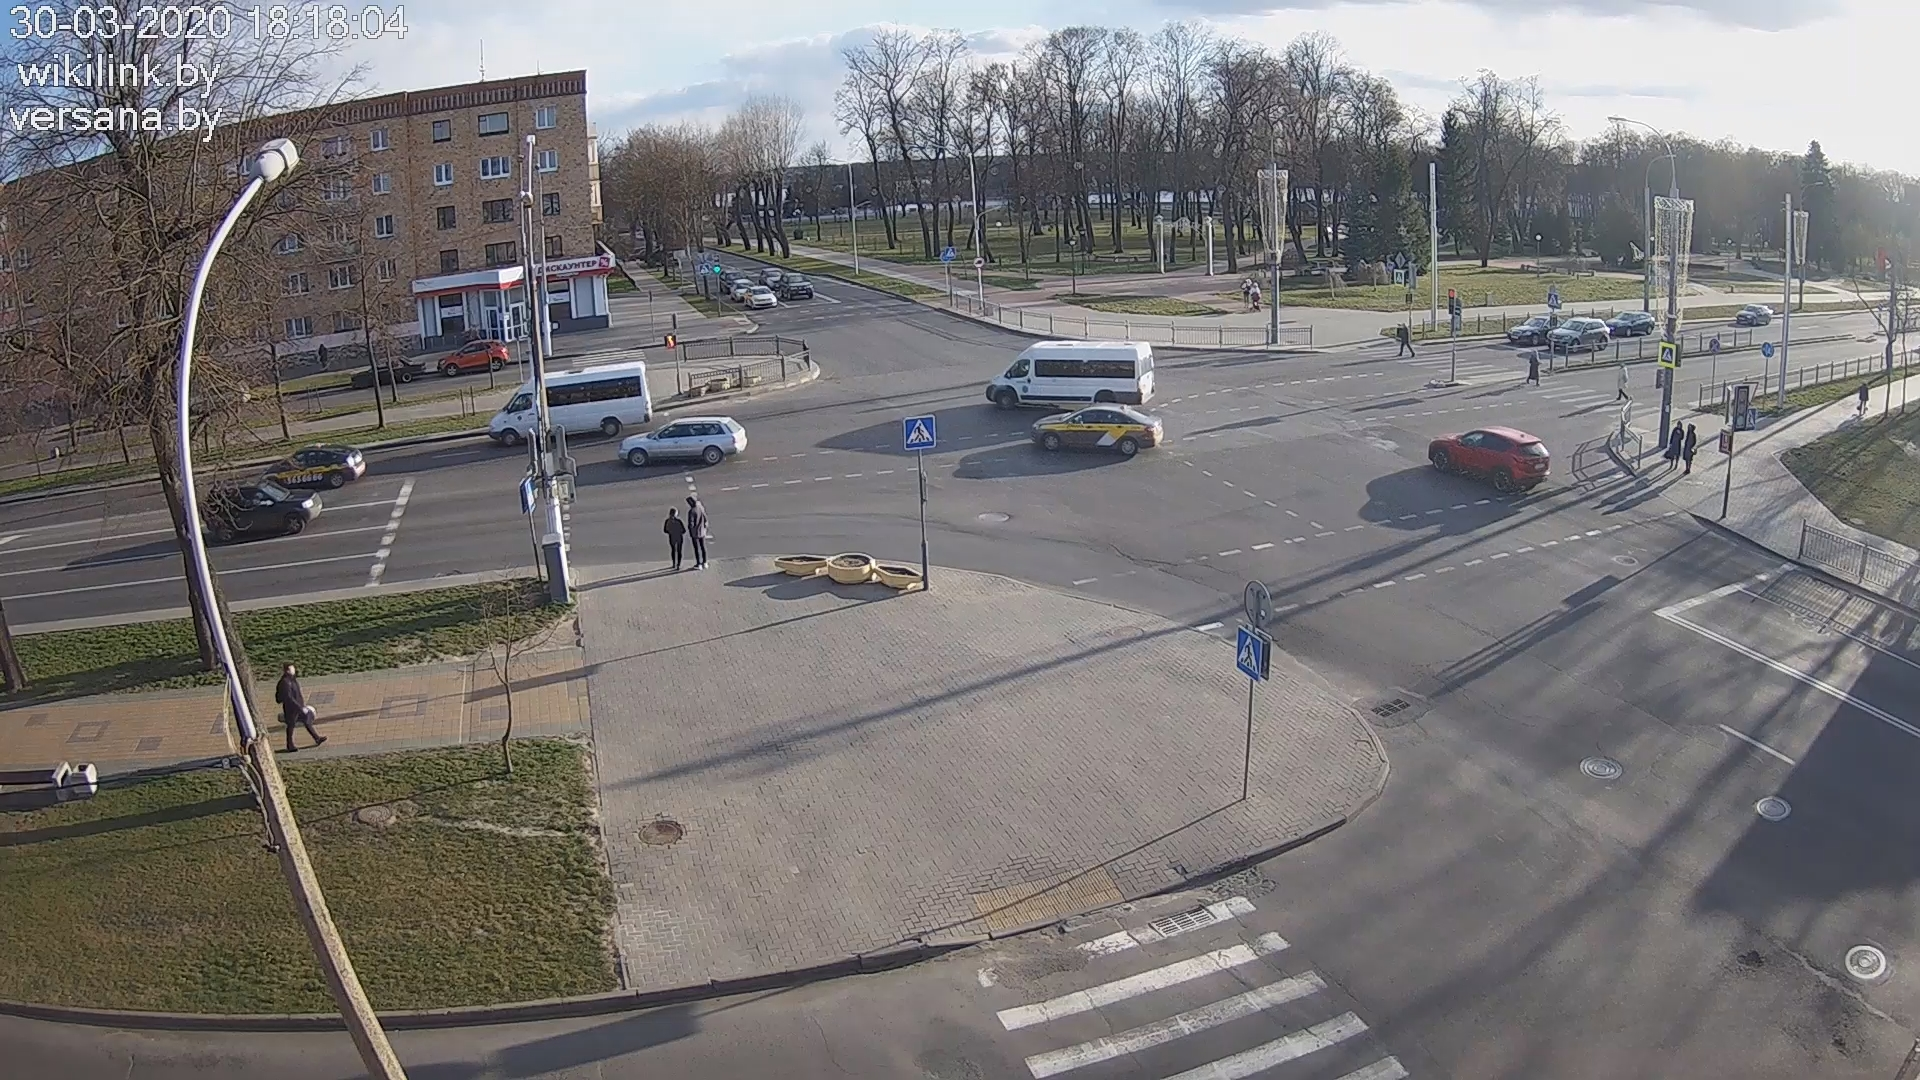car: (488, 360, 651, 447), (986, 340, 1156, 411), (1427, 425, 1551, 493), (202, 477, 324, 543), (1031, 401, 1164, 456), (617, 415, 748, 467), (260, 442, 367, 491), (436, 339, 512, 378), (349, 355, 427, 392), (1545, 316, 1611, 353), (1507, 316, 1565, 345), (1606, 311, 1655, 336), (779, 272, 814, 301), (744, 285, 777, 309), (760, 266, 785, 290)
